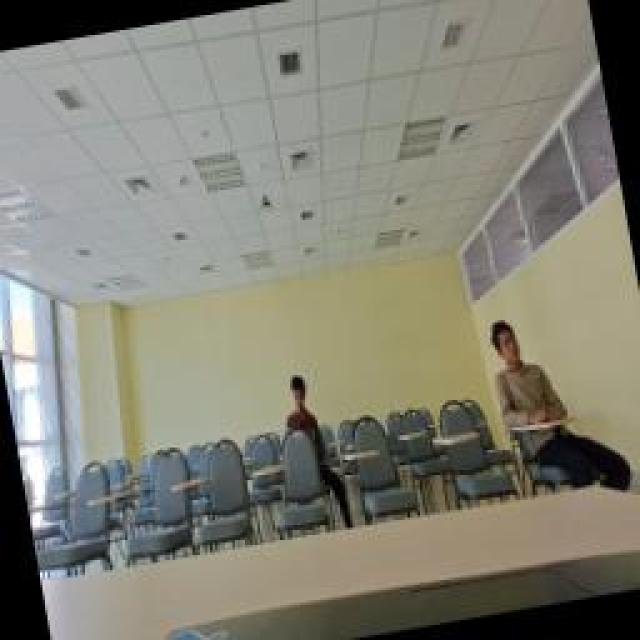study: (485, 310, 570, 432), (275, 373, 320, 445)
